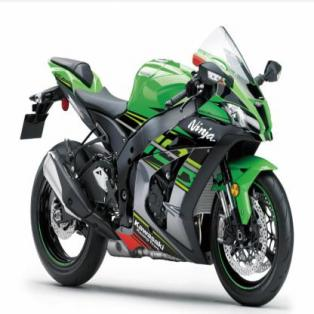Motocicleta: (19, 22, 297, 306)
